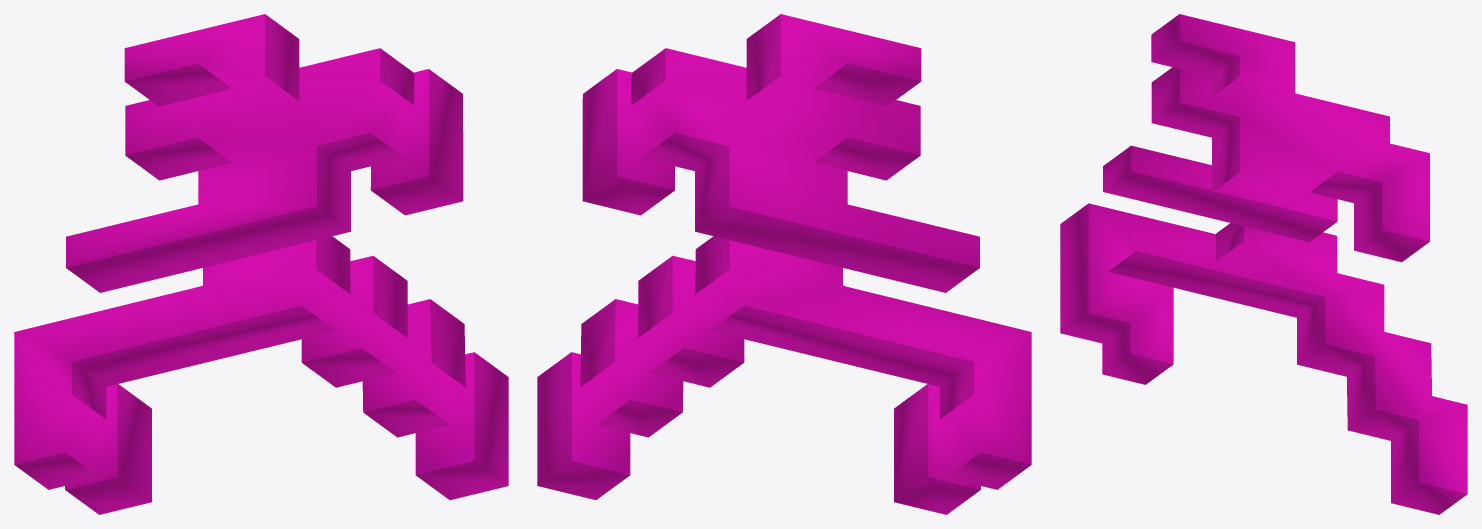
The model's file is ps2_save-icons_intellivisionlives.glb.
3 views of the same model, side by side, from view 1: azimuth 30°, elevation 25°; view 2: azimuth 150°, elevation 25°; view 3: azimuth 330°, elevation 25° (orthographic). The views are drawn at different scales.
Visible parts, largest first — view 1: view.ico; view 2: view.ico; view 3: view.ico.
Boxes of the visible parts, <box> form: view.ico: <box>14,14,508,514</box>; view.ico: <box>537,14,1031,514</box>; view.ico: <box>1060,14,1467,514</box>.
Bounding box in the file's own units: 4.83 × 5 × 0.6245.
Materials: 1 (1 with a texture image).
